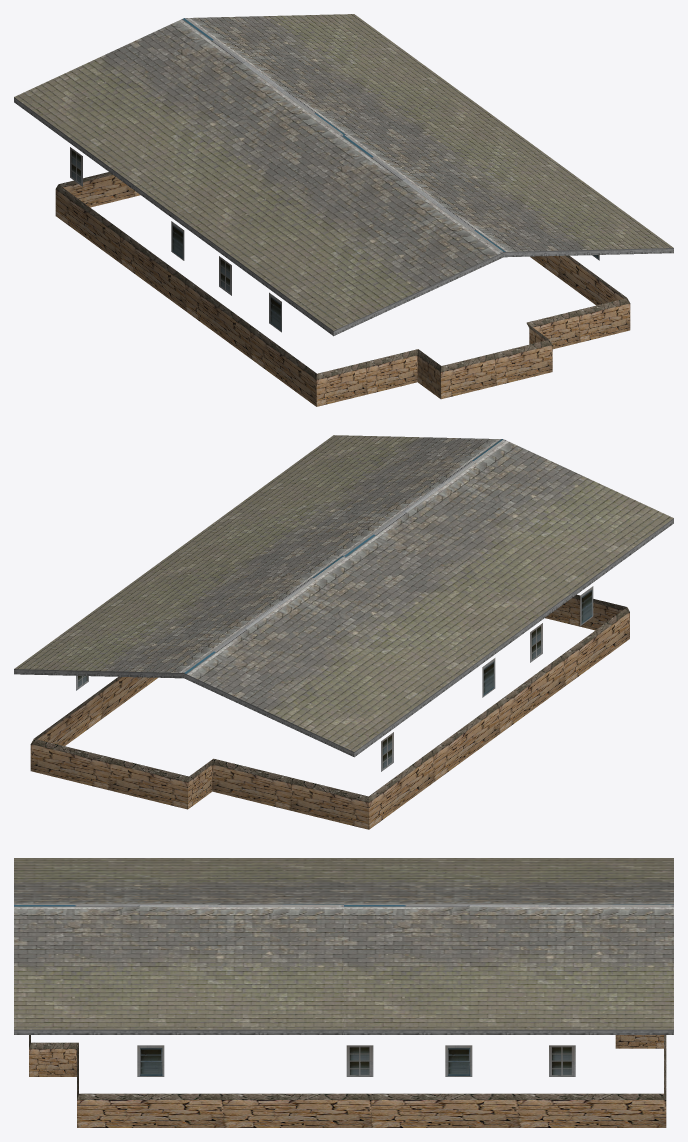
File: rural_woodenbuilding_3_rural_housetrim_1_0_lev2.glb
3 renders of one model, top to bottom at view 1: azimuth 30°, elevation 25°; view 2: azimuth 150°, elevation 25°; view 3: azimuth 270°, elevation 25°, orthographic. The views are drawn at different scales.
Visible parts, largest first — view 1: rural_woodenbuilding_3_rural_housetrim_1_0_lev2; view 2: rural_woodenbuilding_3_rural_housetrim_1_0_lev2; view 3: rural_woodenbuilding_3_rural_housetrim_1_0_lev2.
Boxes of the visible parts, <box> form: rural_woodenbuilding_3_rural_housetrim_1_0_lev2: <box>14,14,673,406</box>; rural_woodenbuilding_3_rural_housetrim_1_0_lev2: <box>14,435,673,829</box>; rural_woodenbuilding_3_rural_housetrim_1_0_lev2: <box>14,858,673,1127</box>.
Bounding box in the file's own units: 8.32 × 3.25 × 13.54.
Materials: 1 (1 with a texture image).
